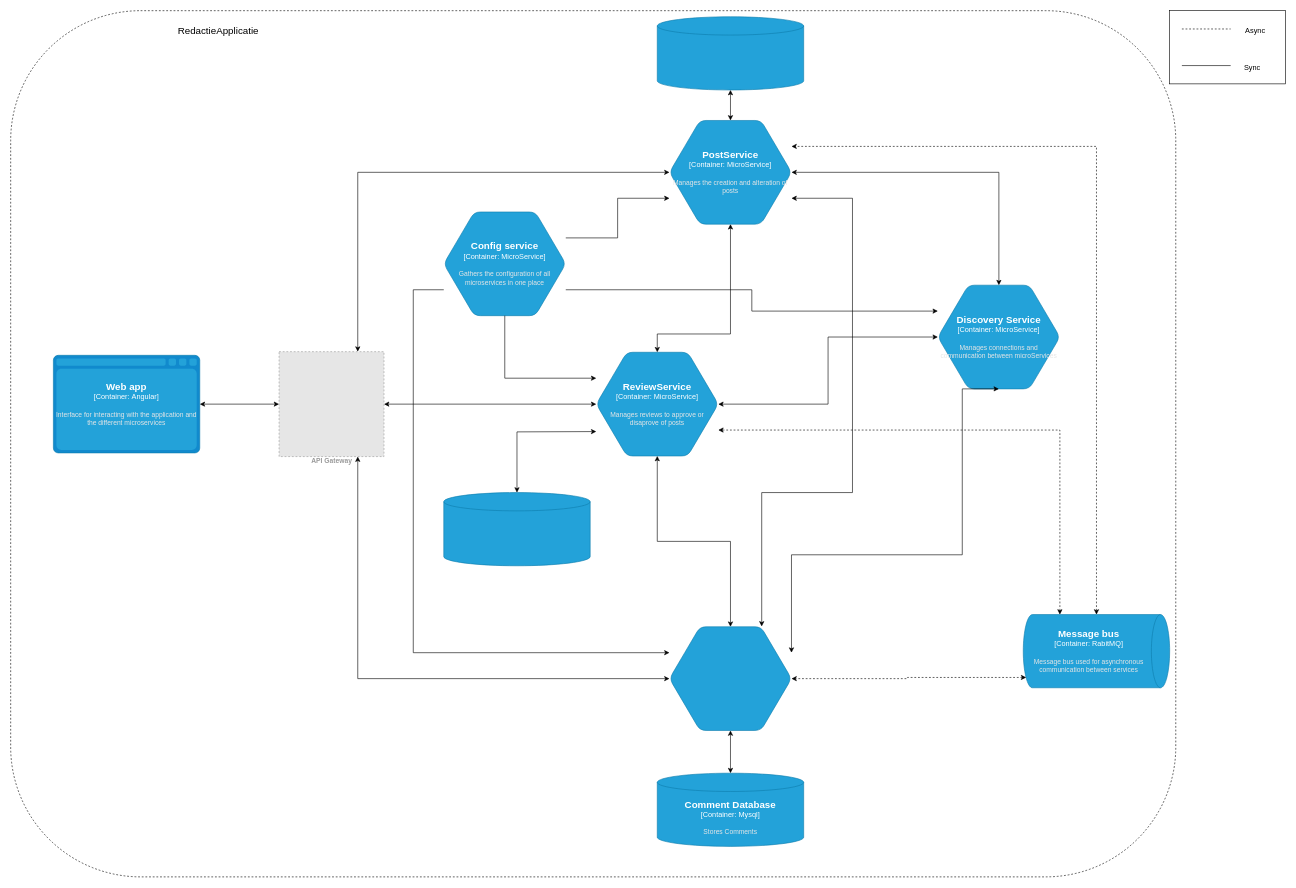
Image size: 1296x888. Some labels were removed from this diagram. Grey dashed boxes stand in for pictures. The shapes that lost their labels are listed below. From the top down, each one's centre as x and y in pixels, then its label:
At [730,53]: "Post Database [Container: MySql] Stores Posts".
At [516,529]: "Review Database [Container: Mysql] Stores Reviews".
At [730,678]: "CommentService [Container: MicroService] Allows users to comment on posts".
